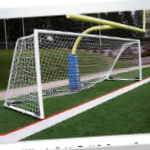goals: (4, 28, 144, 119)
